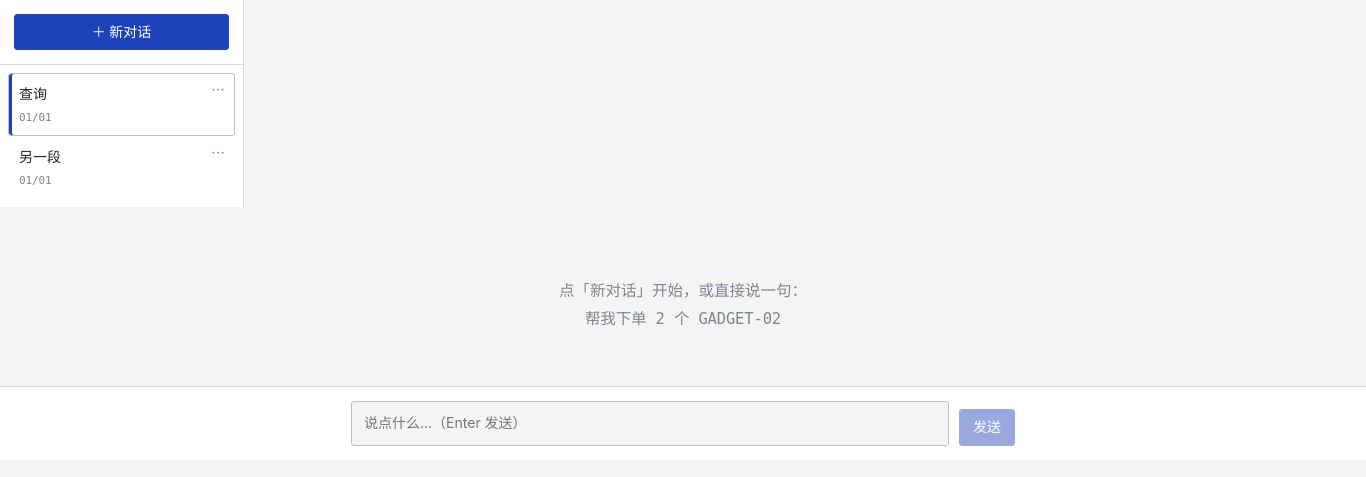
Test: 断流对账 › 等待期间客户切走会话：不把这段对话的历史盖到新打开的会话上
Type "我有哪些订单？" into the text box with placeholder "说点什么…（Enter 发送）" at [650, 423], box [351,401,949,446]
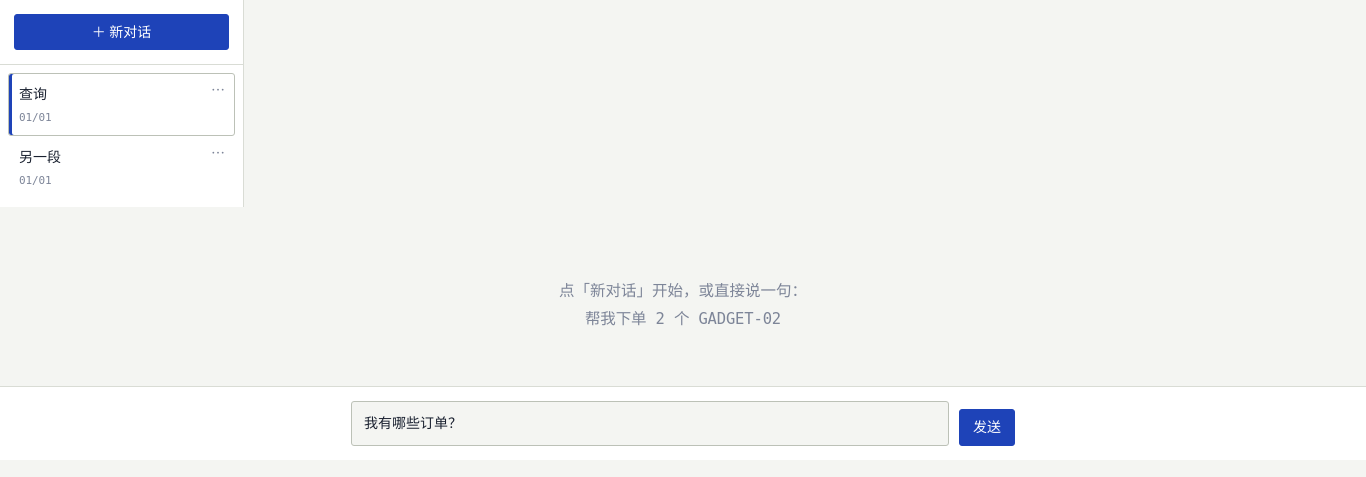
Click the button "发送" at [987, 427], box [959,409,1015,446]
Wait 1 ms
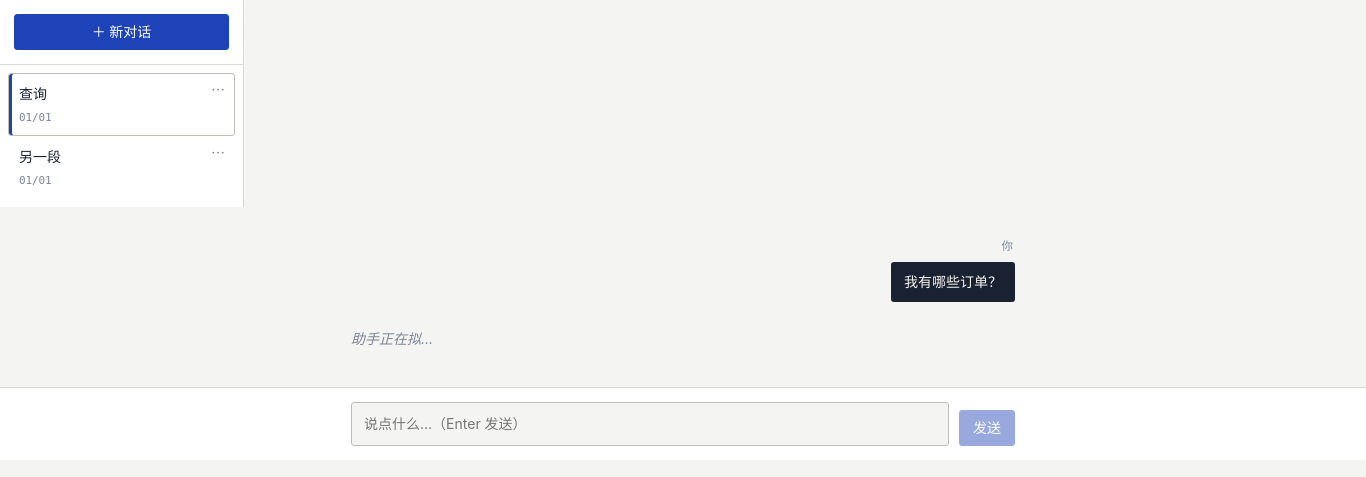
Click the button with class "entry" showing "另一段 01/01" at [122, 168], box [8,136,235,199]
Wait 1502 ms
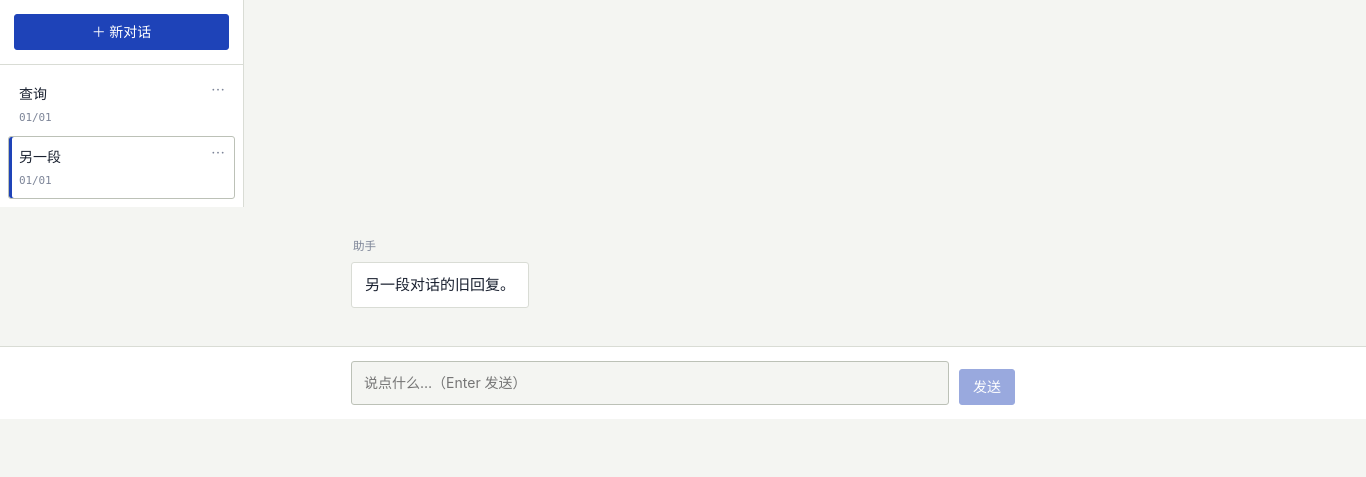
Expected: the text box with placeholder "说点什么…（Enter 发送）" is empty, [351,361,949,405]
Expected: the text "另一段对话的旧回复。" is shown, [365,272,515,298]
Expected: the text "我有哪些订单？" is gone
